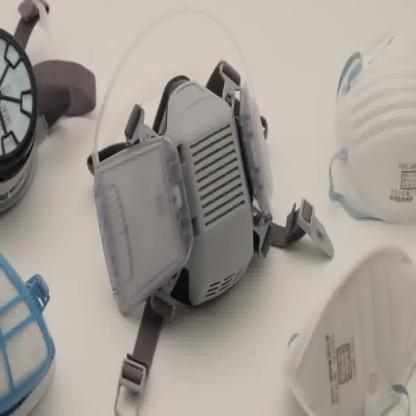mask: (91, 51, 338, 415), (284, 229, 415, 415), (324, 10, 415, 232), (0, 0, 87, 220), (0, 245, 62, 415)
